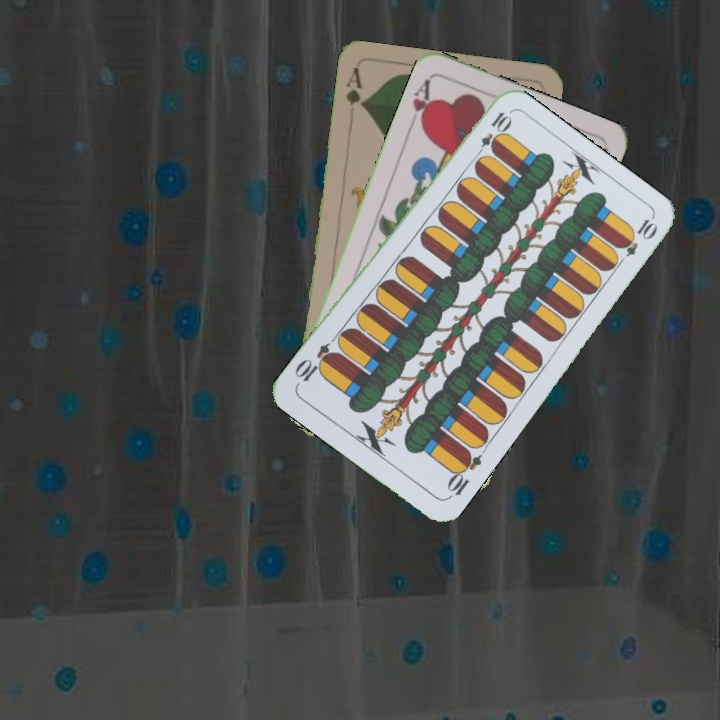E10: (442, 446, 484, 502), (471, 107, 513, 162)
GA: (342, 64, 367, 112)
HA: (405, 74, 437, 133)
